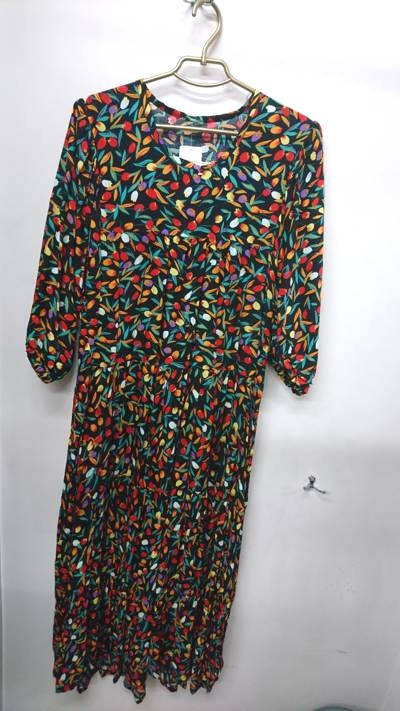Dress: (6, 55, 347, 679)
